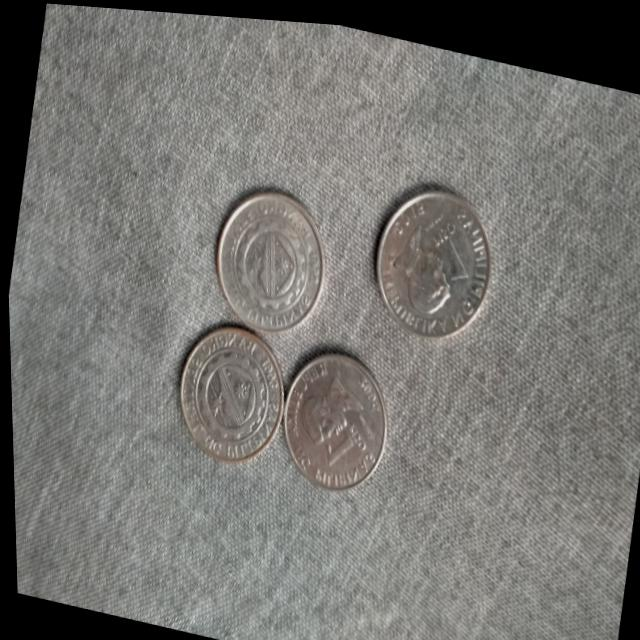1_Old_Back: (178, 334, 275, 451), (221, 201, 313, 315)
